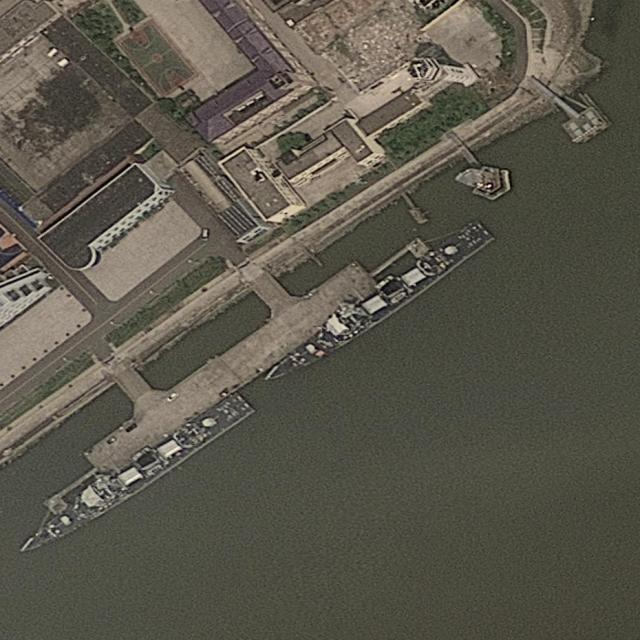Frigate: (17, 387, 255, 566), (262, 217, 496, 394)
